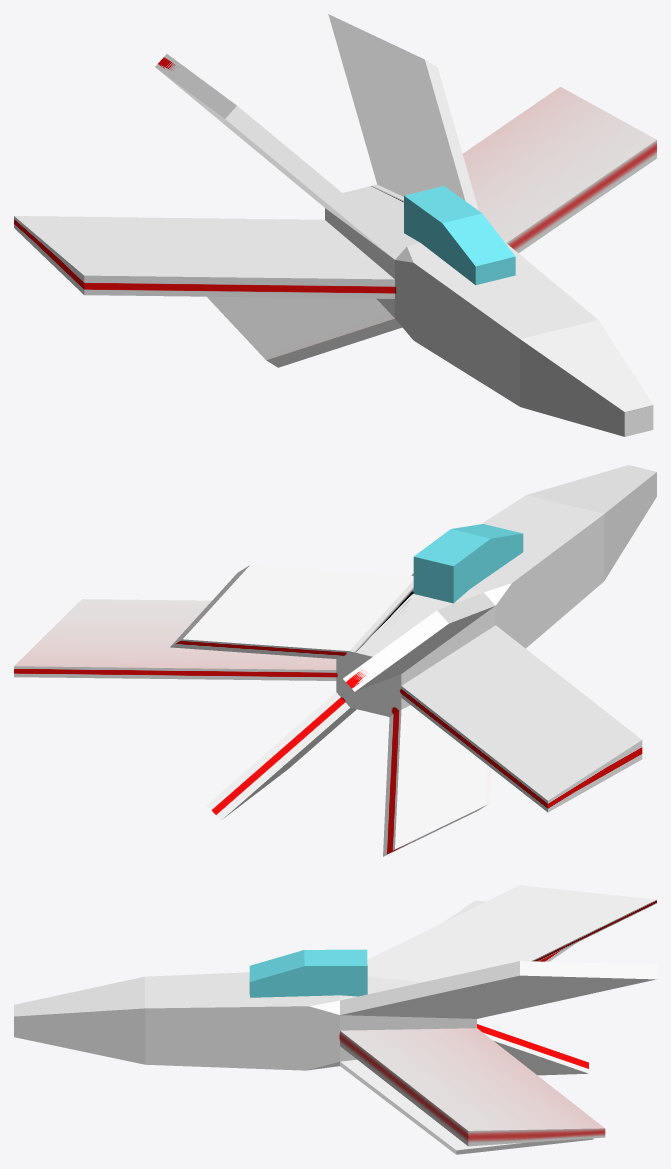
Rendered from player.obj.
3 renders of one model, top to bottom at view 1: azimuth 30°, elevation 25°; view 2: azimuth 150°, elevation 25°; view 3: azimuth 270°, elevation 25°, orthographic. The views are drawn at different scales.
Visible parts, largest first — view 1: Cube; view 2: Cube; view 3: Cube.
Boxes of the visible parts, x1=… form: Cube: x1=14, y1=14, x2=656, y2=436; Cube: x1=14, y1=465, x2=656, y2=856; Cube: x1=14, y1=885, x2=656, y2=1154.
Size of the model in its own units: 8.66 by 3.4 by 10.21.
1 material, 1 textured.
